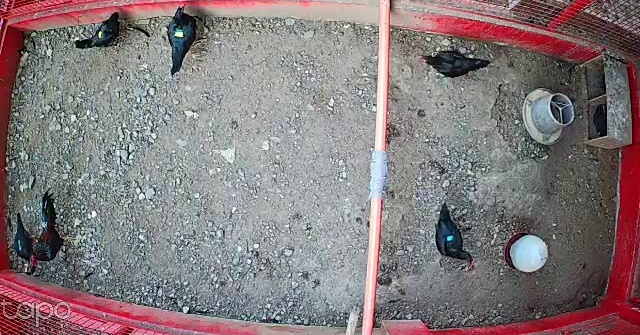Chicken: (430, 199, 478, 267), (165, 5, 204, 74), (419, 47, 494, 80), (75, 8, 128, 52), (11, 212, 39, 268)
Rooster: (34, 190, 81, 265)
Saddle_Color_Blue: (445, 233, 454, 242)
Saddle_Color_Yellow: (98, 30, 104, 39)
Saddle_Color_YellowGreen: (173, 26, 185, 38)
